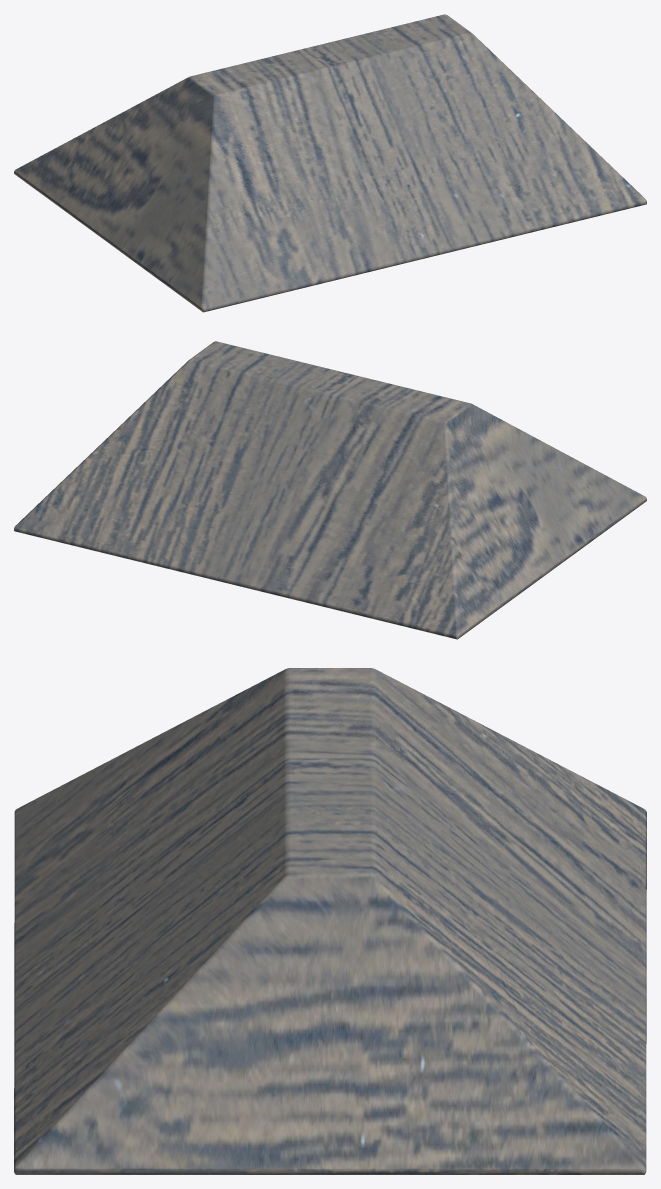
File: BigRoof.obj
3 renders of one model, top to bottom at view 1: azimuth 30°, elevation 25°; view 2: azimuth 150°, elevation 25°; view 3: azimuth 270°, elevation 25°, orthographic. The views are drawn at different scales.
Parts seen in each view (by area): view 1: BigRoof; view 2: BigRoof; view 3: BigRoof.
Boxes of the visible parts, left/top/right/bottom form: BigRoof: left=14, top=14, right=646, bottom=312; BigRoof: left=14, top=341, right=646, bottom=639; BigRoof: left=14, top=668, right=646, bottom=1174.
Size of the model in its own units: 394 by 114 by 292.
Materials: 1 (1 with a texture image).
